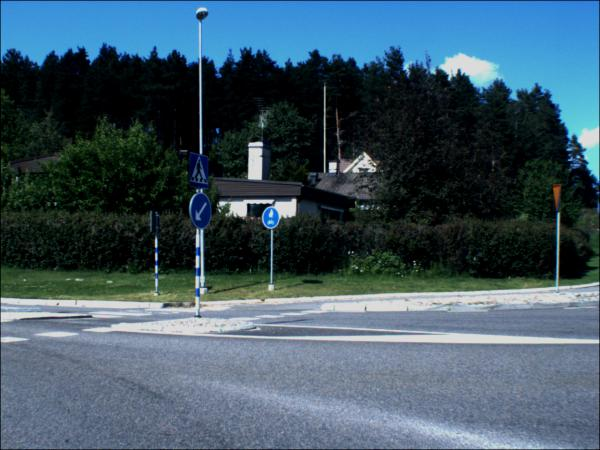GIVE_WAY: (553, 185, 562, 213)
PASS_RIGHT_SIDE: (190, 193, 213, 231)
PEDESTRIAN_CROSSING: (187, 154, 210, 191)
